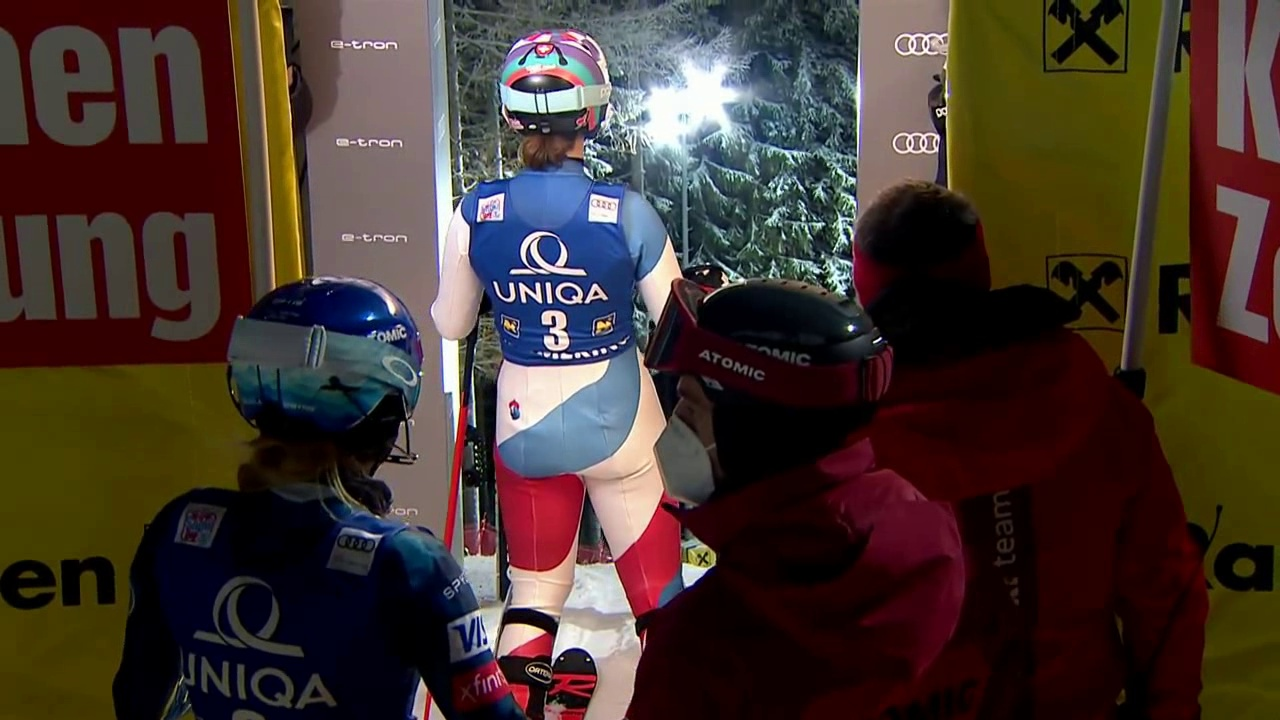audi: (885, 29, 956, 67), (884, 129, 947, 166)
etron: (325, 34, 407, 56), (335, 130, 401, 154)
kronenzeitung: (9, 55, 231, 337), (1, 1, 205, 161)
raiffeisen: (1038, 1, 1140, 78), (1039, 247, 1125, 337)
uniqa: (181, 580, 327, 719), (496, 225, 605, 316)
